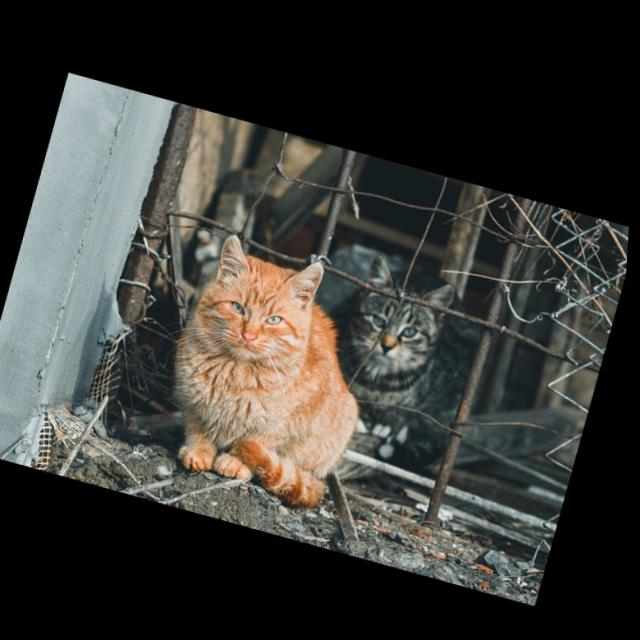animals: (176, 232, 363, 505), (335, 247, 490, 453)
